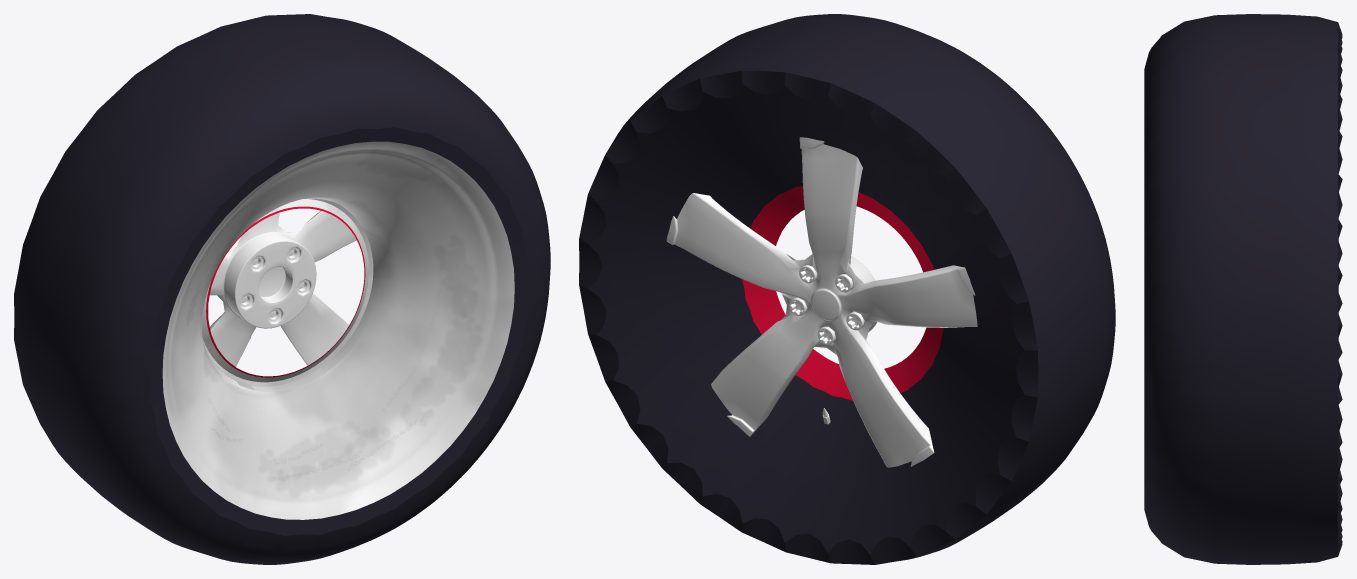
File: FrontTire.fbx
The picture shows the model from 3 angles, left to right: view 1: azimuth 30°, elevation 25°; view 2: azimuth 150°, elevation 25°; view 3: azimuth 270°, elevation 25°; orthographic projection.
Parts seen in each view (by area): view 1: Cylinder.002, Rim.005; view 2: Cylinder.002, Rim.005; view 3: Cylinder.002.
Part boxes in pixels (x1,y1,x2,y2): Cylinder.002: [14, 14, 550, 564]; Rim.005: [209, 211, 356, 366]; Cylinder.002: [579, 14, 1115, 564]; Rim.005: [666, 137, 977, 467]; Cylinder.002: [1144, 14, 1342, 564].
Bounding box in the file's own units: 200 × 200 × 71.95.
